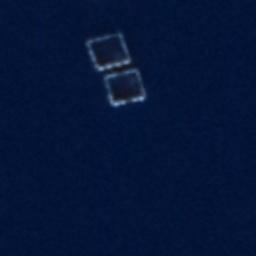square_solid: (82, 29, 137, 72), (100, 64, 150, 111)
